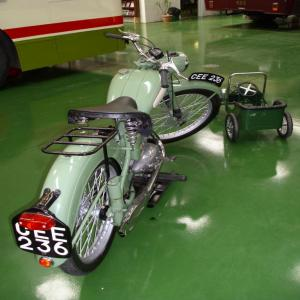Vehicle-registration-plate: (11, 208, 72, 259)
